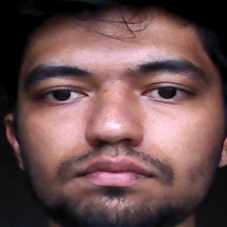awake: (21, 51, 206, 206)
